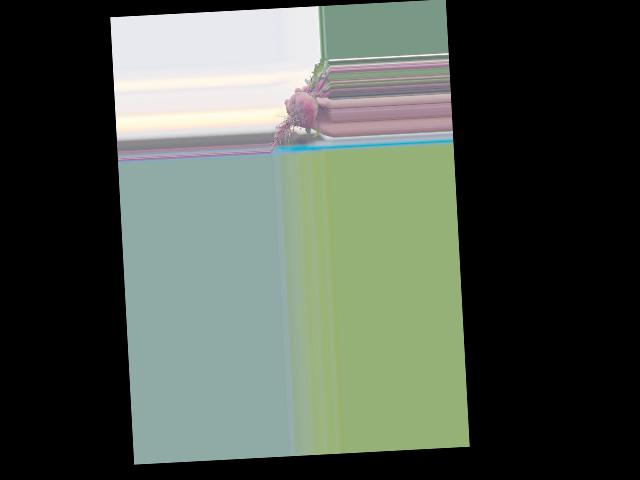beet: (265, 57, 333, 152)
